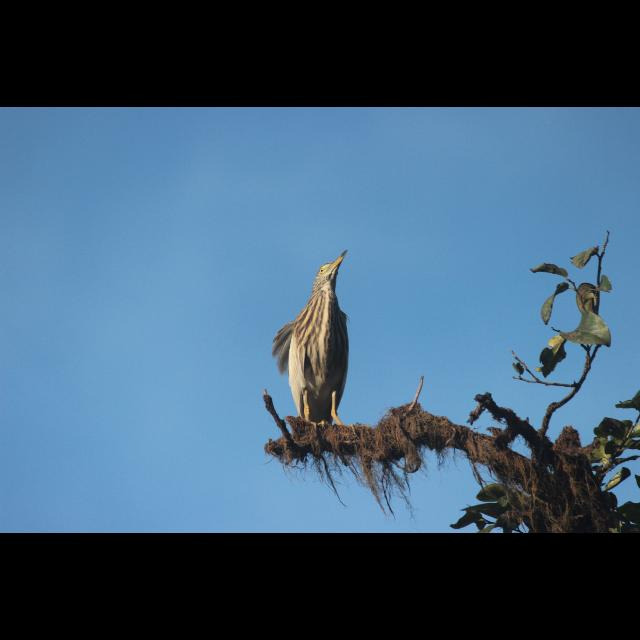heron: (264, 243, 362, 442)
